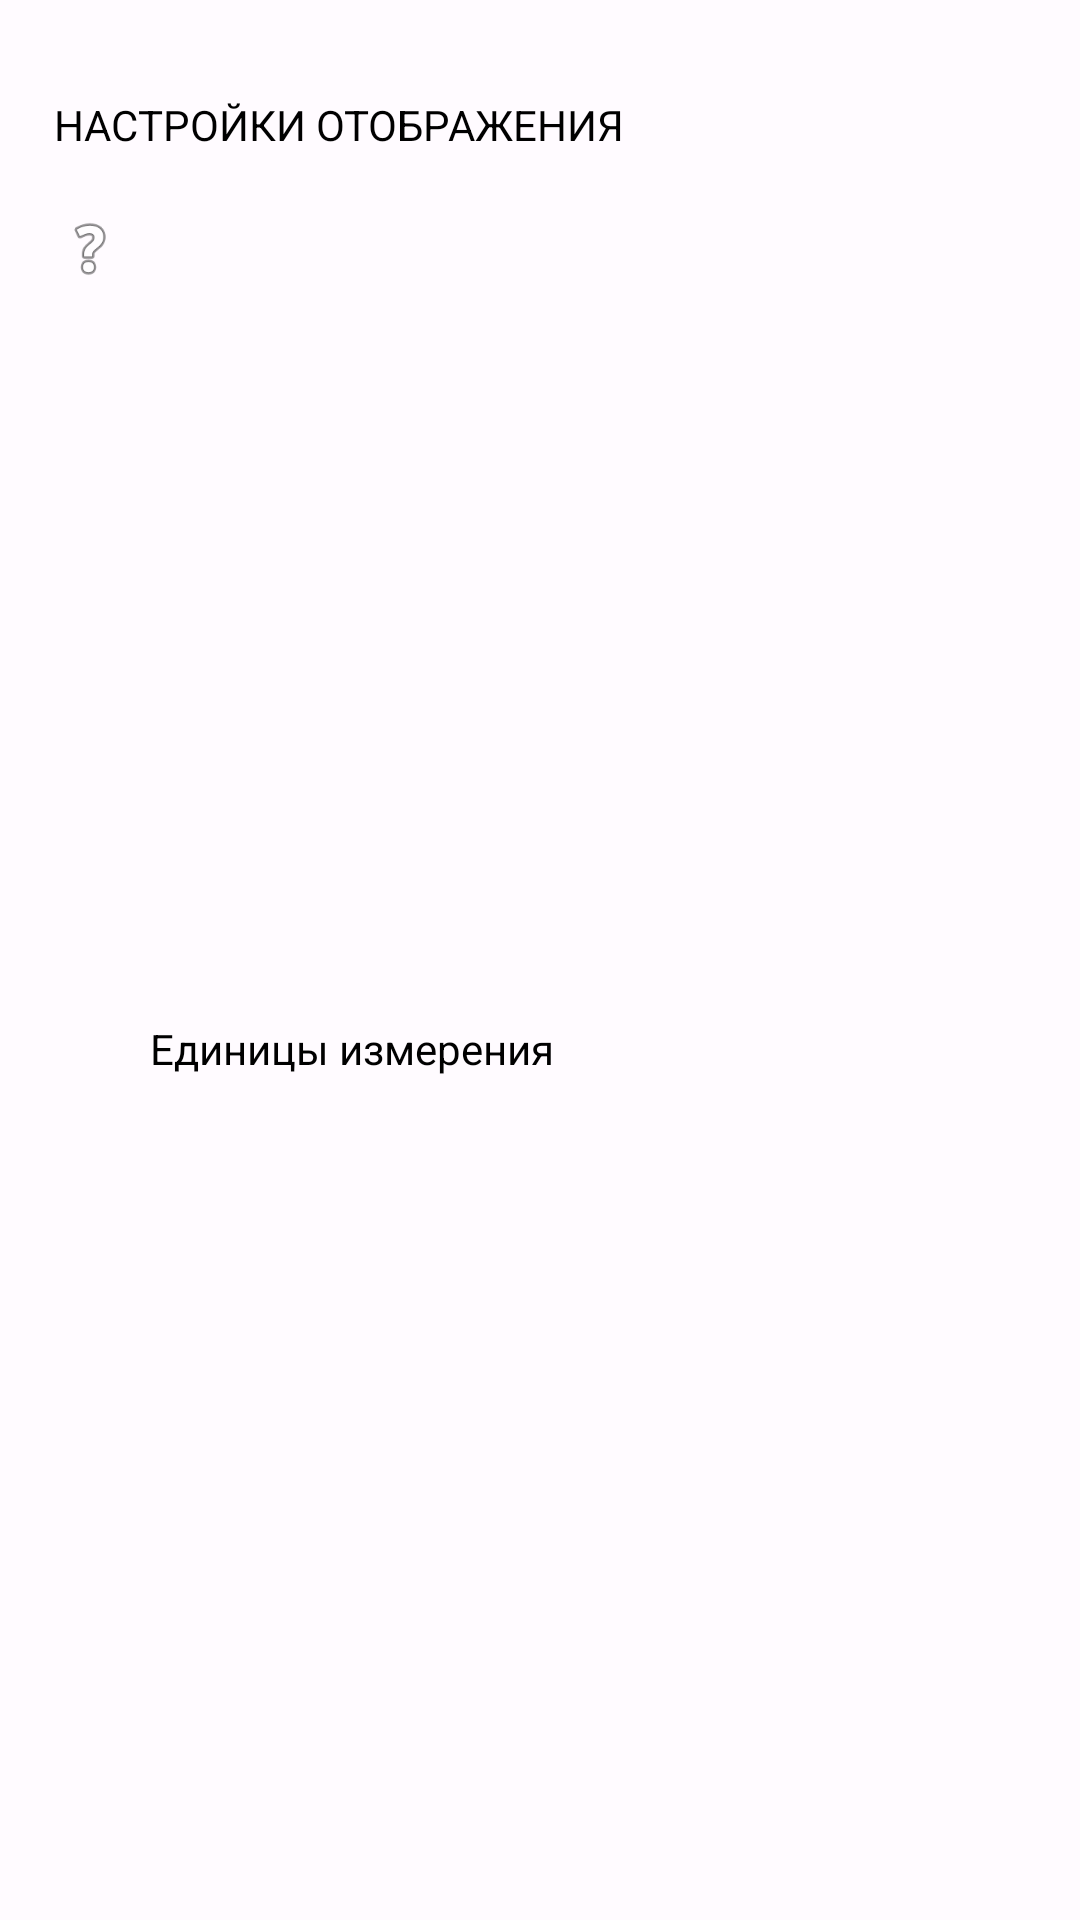

Icon click points for this 1080px×1920px phone screenshot, format (x,y):
help: (90,249)
